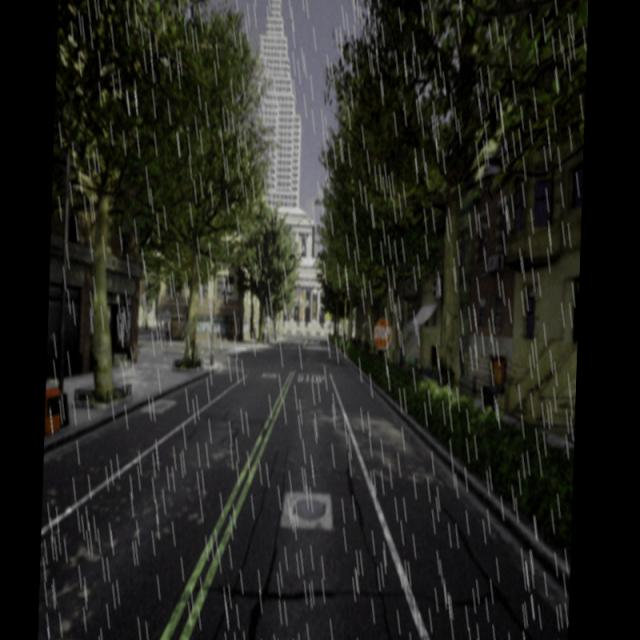stop sign: (371, 314, 394, 352)
